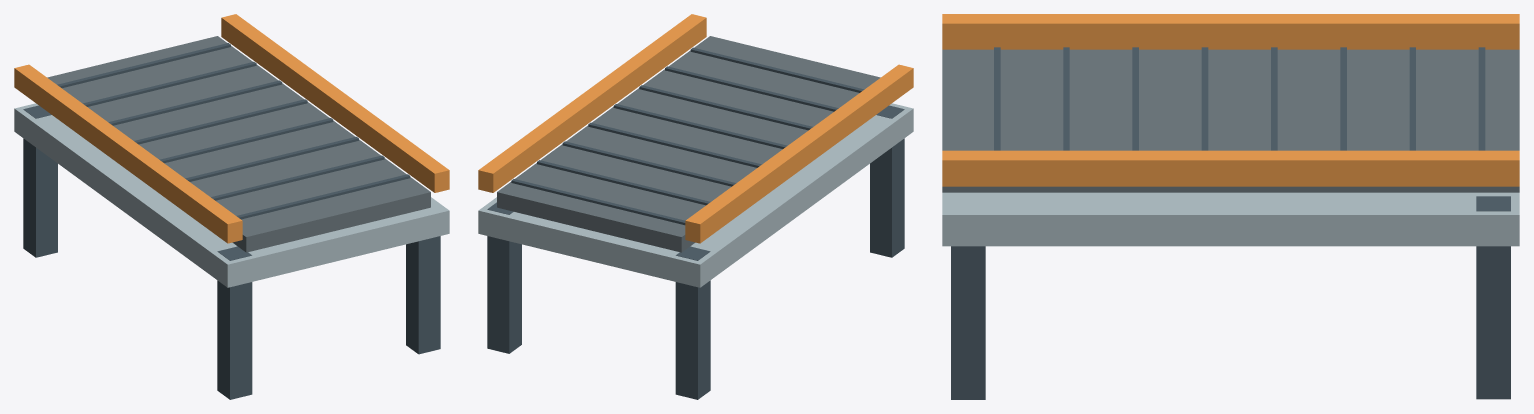
The model's file is straight-powered-conveyor.glb.
3 views of the same model, side by side, from view 1: azimuth 30°, elevation 25°; view 2: azimuth 150°, elevation 25°; view 3: azimuth 270°, elevation 25° (orthographic). The views are drawn at different scales.
Parts seen in each view (by area): view 1: rubber, dark, steel, orange; view 2: rubber, dark, steel, orange; view 3: rubber, orange, steel, dark.
Boxes of the visible parts, bbox=[...] form: rubber: bbox=[47, 36, 430, 252]; dark: bbox=[23, 43, 440, 399]; steel: bbox=[14, 103, 449, 287]; orange: bbox=[14, 14, 449, 243]; rubber: bbox=[497, 36, 880, 252]; dark: bbox=[487, 47, 904, 399]; steel: bbox=[478, 103, 913, 287]; orange: bbox=[478, 14, 913, 243]; rubber: bbox=[942, 49, 1519, 192]; orange: bbox=[942, 14, 1519, 186]; steel: bbox=[942, 192, 1519, 246]; dark: bbox=[951, 47, 1510, 399].
Size of the model in its own units: 1.2 by 0.9301 by 2.
